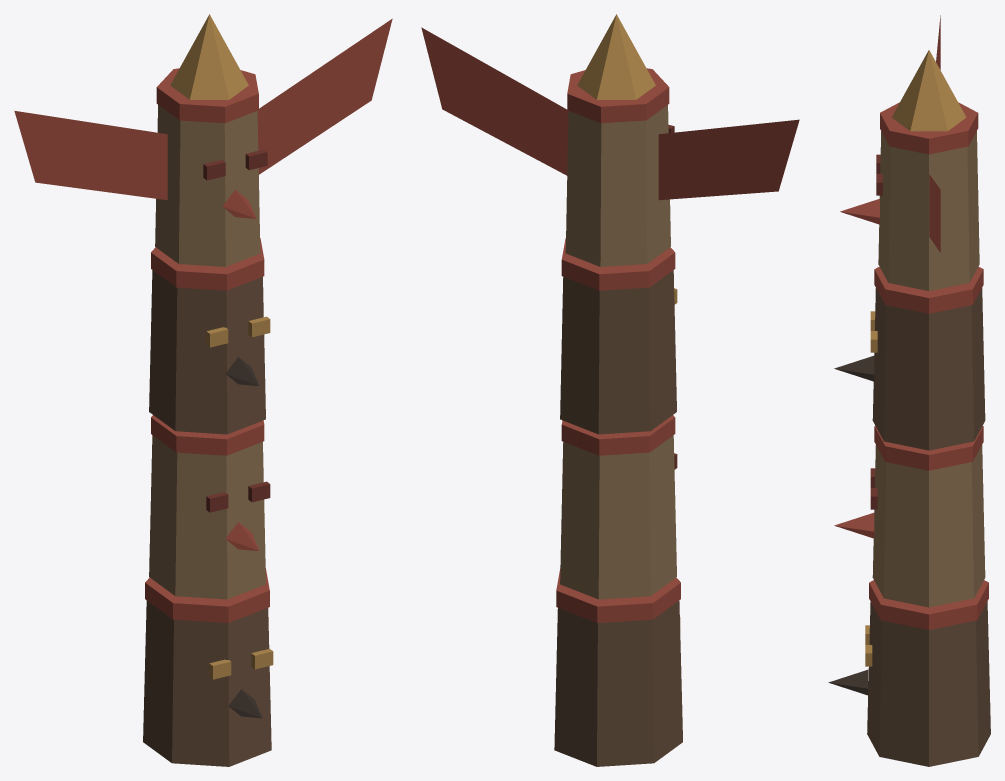
File: totem.glb
3 renders of one model, left to right at view 1: azimuth 30°, elevation 25°; view 2: azimuth 150°, elevation 25°; view 3: azimuth 270°, elevation 25°, orthographic. The views are drawn at different scales.
Parts seen in each view (by area): view 1: carved drum, carved drum.001, carved drum.002, carved drum.003, totem wing, totem wing.001, totem crest, painted rim, painted rim.002, painted rim.003, painted rim.001; view 2: carved drum, carved drum.001, carved drum.002, carved drum.003, totem wing.001, totem wing, totem crest, painted rim, painted rim.002, painted rim.003, painted rim.001; view 3: carved drum, carved drum.001, carved drum.002, carved drum.003, totem crest, painted rim, painted rim.002, painted rim.003, painted rim.001, totem wing.001, carved nose.001, carved beak (+2 smaller).
Boxes of the visible parts, left/top/right/bottom form: carved drum: left=143, top=600, right=271, bottom=766; carved drum.001: left=149, top=435, right=265, bottom=599; carved drum.002: left=149, top=270, right=265, bottom=434; carved drum.003: left=155, top=105, right=260, bottom=266; totem wing: left=14, top=110, right=167, bottom=200; totem wing.001: left=257, top=18, right=392, bottom=174; totem crest: left=170, top=14, right=248, bottom=99; painted rim: left=145, top=568, right=269, bottom=622; painted rim.002: left=151, top=238, right=264, bottom=290; painted rim.003: left=156, top=68, right=258, bottom=123; painted rim.001: left=151, top=415, right=264, bottom=455; carved drum: left=554, top=601, right=682, bottom=766; carved drum.001: left=560, top=435, right=676, bottom=599; carved drum.002: left=560, top=270, right=676, bottom=434; carved drum.003: left=565, top=105, right=670, bottom=266; totem wing.001: left=421, top=27, right=568, bottom=175; totem wing: left=658, top=119, right=799, bottom=200; totem crest: left=577, top=14, right=655, bottom=99; painted rim: left=556, top=569, right=680, bottom=622; painted rim.002: left=561, top=238, right=675, bottom=290; painted rim.003: left=567, top=68, right=669, bottom=123; painted rim.001: left=561, top=415, right=675, bottom=455; carved drum: left=867, top=601, right=990, bottom=766; carved drum.001: left=872, top=445, right=985, bottom=607; carved drum.002: left=872, top=288, right=985, bottom=450; carved drum.003: left=878, top=131, right=979, bottom=290; totem crest: left=891, top=50, right=966, bottom=131; painted rim: left=869, top=580, right=988, bottom=629; painted rim.002: left=874, top=266, right=983, bottom=313; painted rim.003: left=880, top=102, right=978, bottom=154; painted rim.001: left=874, top=426, right=983, bottom=470; totem wing.001: left=929, top=174, right=940, bottom=252; carved nose.001: left=834, top=355, right=874, bottom=381; carved beak: left=834, top=512, right=874, bottom=538.
Size of the model in its own units: 0.72 by 1.32 by 0.2822.
